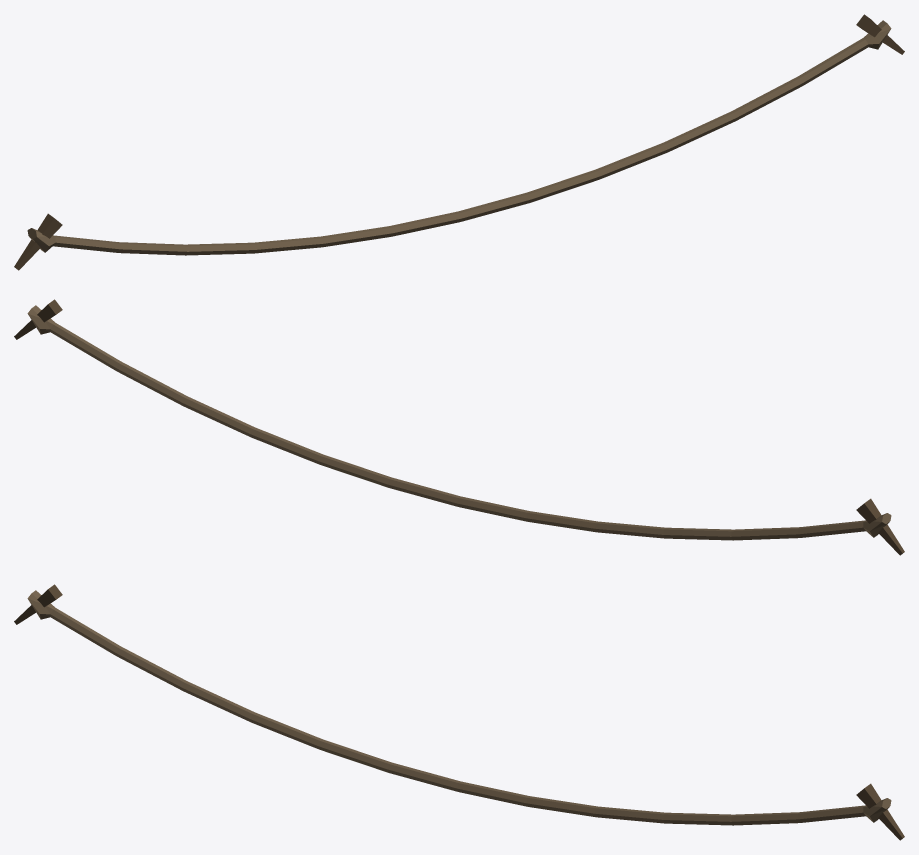
File: washingline.glb
3 renders of one model, top to bottom at view 1: azimuth 30°, elevation 25°; view 2: azimuth 150°, elevation 25°; view 3: azimuth 330°, elevation 25°, orthographic.
Parts seen in each view (by area): view 1: SM_Prop_Washingline_01; view 2: SM_Prop_Washingline_01; view 3: SM_Prop_Washingline_01.
Part boxes in pixels (left/top/right/bottom): SM_Prop_Washingline_01: left=14, top=14, right=904, bottom=270; SM_Prop_Washingline_01: left=14, top=299, right=904, bottom=555; SM_Prop_Washingline_01: left=14, top=584, right=904, bottom=840.
Size of the model in its own units: 555 by 62.6 by 10.21.
1 material, 1 textured.
